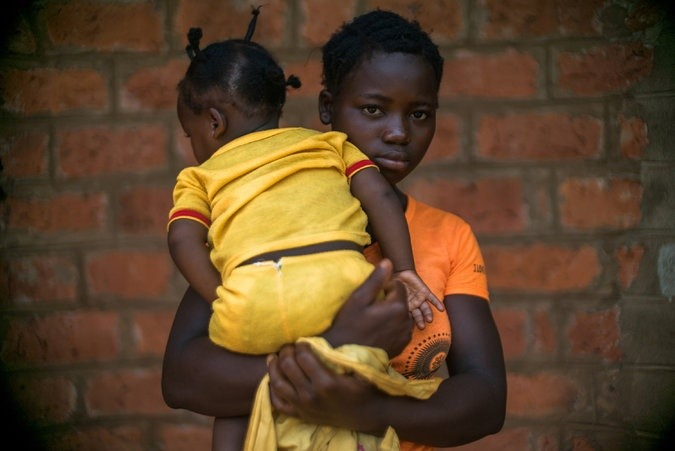face_no_mask: (320, 12, 442, 178)
